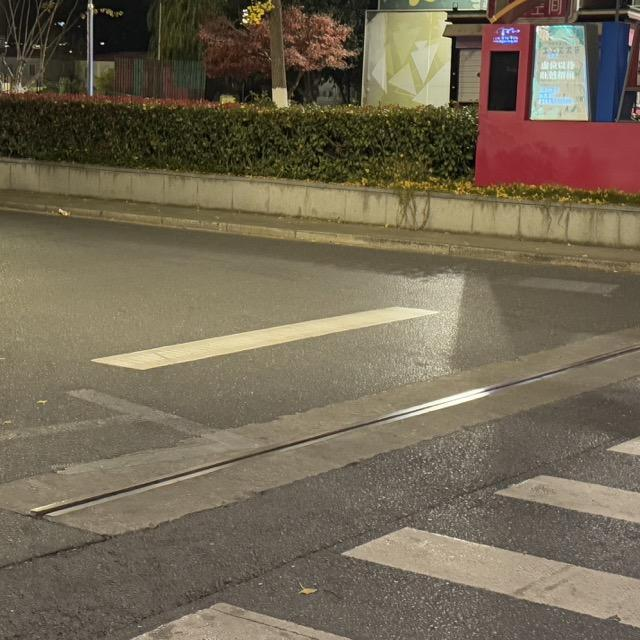curb: (0, 158, 639, 247), (0, 192, 639, 274)
